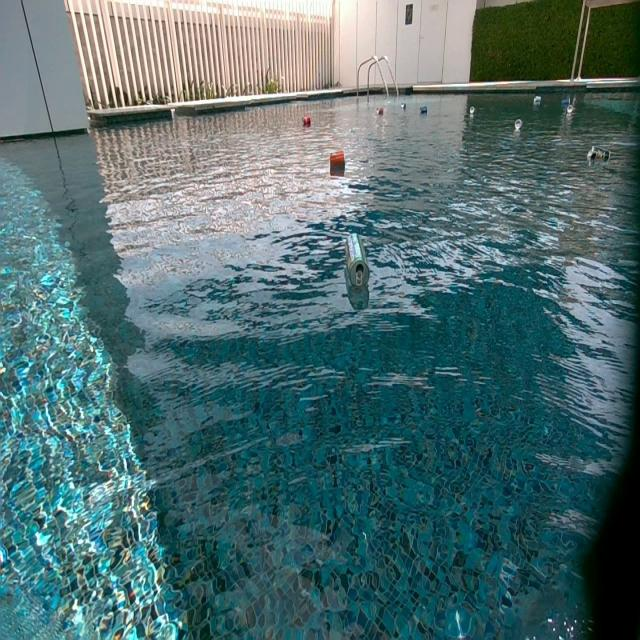Cans: (344, 233, 368, 286), (586, 145, 610, 165), (331, 150, 346, 166), (302, 115, 311, 127), (513, 119, 522, 131), (533, 97, 542, 107), (420, 106, 429, 116), (566, 105, 574, 115), (376, 106, 384, 115), (562, 98, 571, 106), (469, 106, 476, 115), (400, 102, 406, 111)
